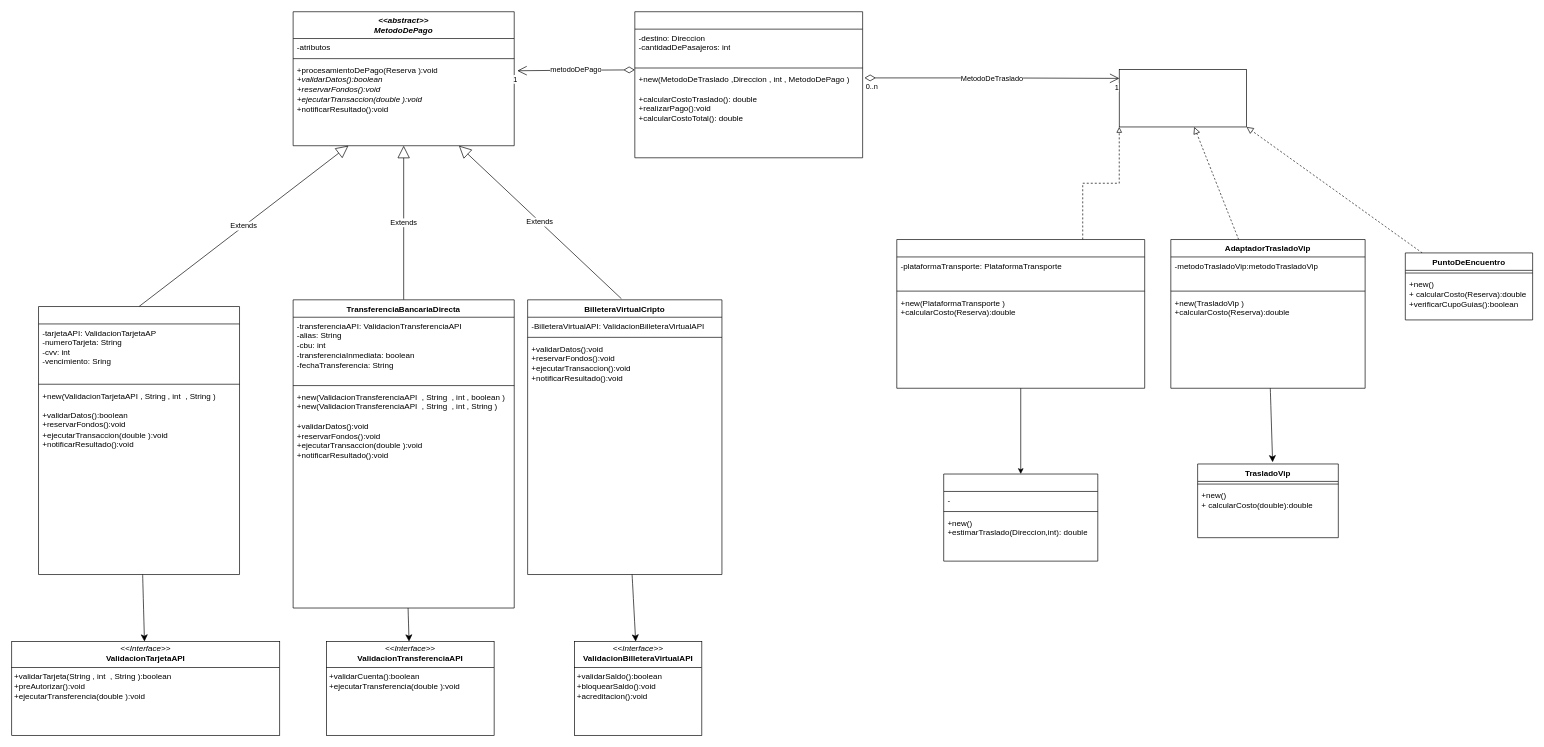
Image size: 1544x747. Some labels were removed from this diagram. Each missing label, with the box of its shape:
<<Interface>> MetodoDeTraslado + calcularCosto(Reserva):double: (1119, 69, 1247, 127)
AdaptadorTrasladoEstandar: (896, 239, 1145, 388)
PlataformaTransporte: (943, 473, 1098, 561)
Reserva: (634, 11, 863, 158)
TarjetaDeCreditoInternacional: (38, 306, 240, 575)
